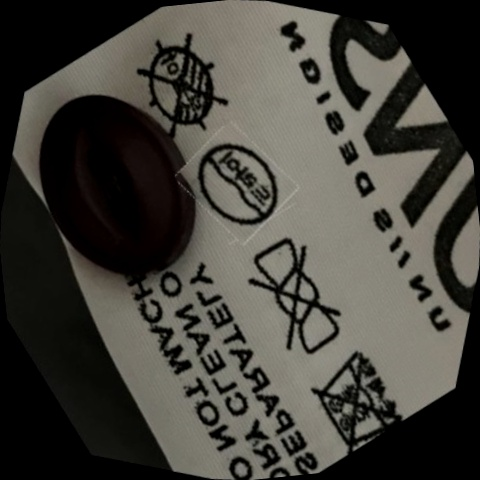DN_dry: (117, 21, 247, 152)
DN_wring: (222, 226, 368, 372)
dry_clean: (178, 124, 296, 244)
hand_wash: (293, 329, 418, 461)
